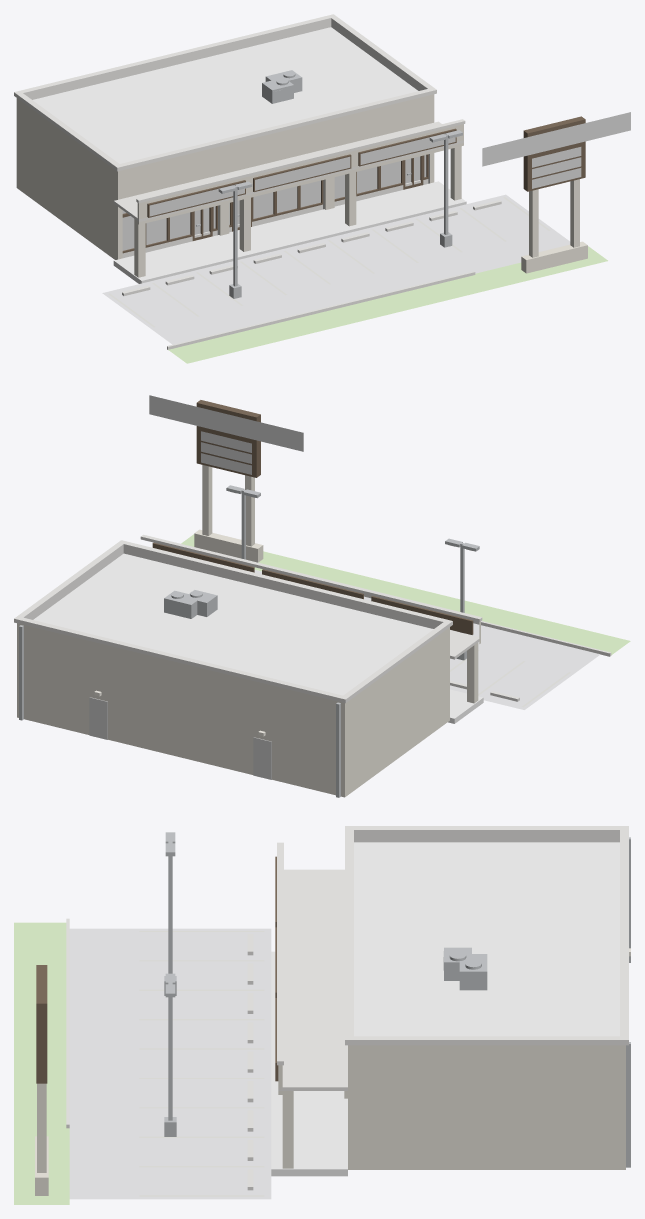
File: retail_strip3.glb
3 views of the same model, one above another, from view 1: azimuth 30°, elevation 25°; view 2: azimuth 150°, elevation 25°; view 3: azimuth 270°, elevation 25° (orthographic). The views are drawn at different scales.
Visible parts, largest first — view 1: retail_strip3_Walls, retail_strip3_Asphalt, retail_strip3_Roof, retail_strip3_Trim, retail_strip3_Site, retail_strip3_Lawn, retail_strip3_Frames, retail_strip3_WindowsLit, retail_strip3_Sign, retail_strip3_Brand, retail_strip3_Details, retail_strip3_Paint; view 2: retail_strip3_Walls, retail_strip3_Roof, retail_strip3_Trim, retail_strip3_Asphalt, retail_strip3_Lawn, retail_strip3_Frames, retail_strip3_Details, retail_strip3_Brand, retail_strip3_Sign, retail_strip3_Doors, retail_strip3_Site; view 3: retail_strip3_Asphalt, retail_strip3_Roof, retail_strip3_Walls, retail_strip3_Trim, retail_strip3_Lawn, retail_strip3_Site, retail_strip3_Details, retail_strip3_Paint, retail_strip3_Frames.
Part boxes in pixels (box(x1,y1,x2,y2)): retail_strip3_Walls: box(16, 94, 587, 277); retail_strip3_Asphalt: box(102, 194, 570, 344); retail_strip3_Roof: box(33, 27, 418, 163); retail_strip3_Trim: box(14, 14, 501, 349); retail_strip3_Site: box(113, 181, 466, 283); retail_strip3_Lawn: box(168, 246, 607, 363); retail_strip3_Frames: box(122, 116, 585, 253); retail_strip3_WindowsLit: box(122, 155, 426, 250); retail_strip3_Sign: box(149, 133, 581, 216); retail_strip3_Brand: box(482, 112, 630, 166); retail_strip3_Details: box(196, 70, 462, 298); retail_strip3_Paint: box(108, 197, 550, 327); retail_strip3_Walls: box(17, 465, 480, 797); retail_strip3_Roof: box(33, 553, 433, 695); retail_strip3_Trim: box(14, 534, 611, 703); retail_strip3_Asphalt: box(254, 570, 600, 709); retail_strip3_Lawn: box(181, 534, 630, 654); retail_strip3_Frames: box(152, 400, 473, 634); retail_strip3_Details: box(19, 485, 479, 797); retail_strip3_Brand: box(149, 395, 303, 451); retail_strip3_Sign: box(201, 431, 251, 474); retail_strip3_Doors: box(89, 697, 271, 779); retail_strip3_Site: box(448, 689, 483, 723); retail_strip3_Asphalt: box(69, 928, 271, 1199); retail_strip3_Roof: box(354, 842, 619, 1036); retail_strip3_Walls: box(35, 1045, 625, 1195); retail_strip3_Trim: box(66, 826, 628, 1190); retail_strip3_Lawn: box(14, 922, 69, 1204); retail_strip3_Site: box(271, 951, 347, 1176); retail_strip3_Details: box(164, 832, 630, 1167); retail_strip3_Paint: box(139, 931, 264, 1196); retail_strip3_Frames: box(36, 856, 278, 1083).
Bounding box in the file's own units: 103 × 30.9 × 88.7.
